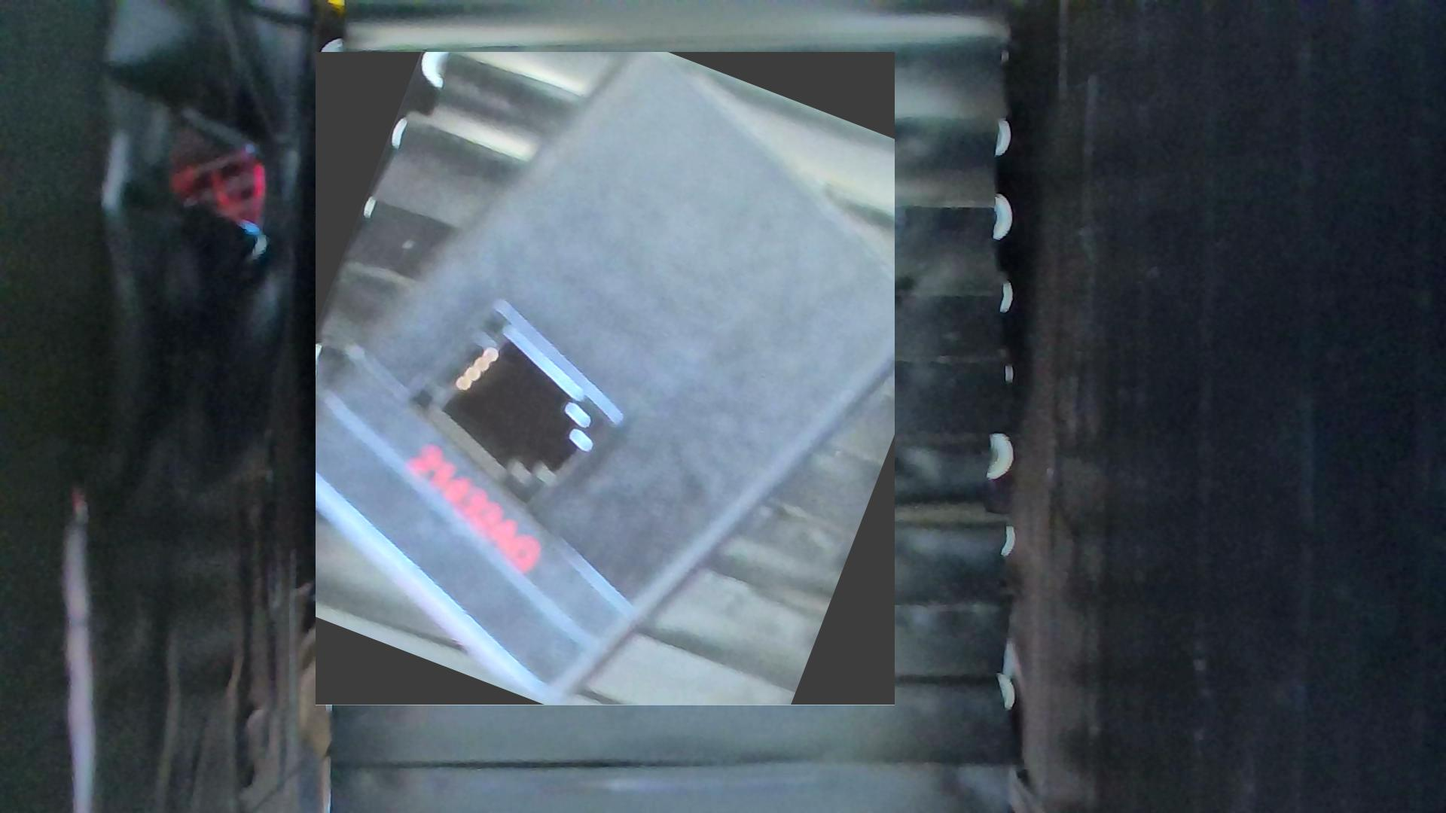motor: (316, 53, 895, 706)
